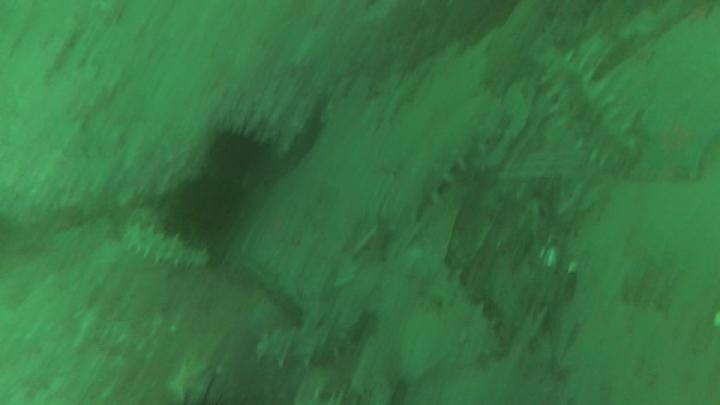echinus: (168, 180, 234, 240), (212, 130, 264, 173)
holothurian: (399, 251, 501, 358), (401, 97, 490, 218), (547, 57, 639, 167), (125, 226, 210, 269), (256, 328, 344, 364)
starfish: (646, 118, 713, 183), (169, 363, 208, 399)
